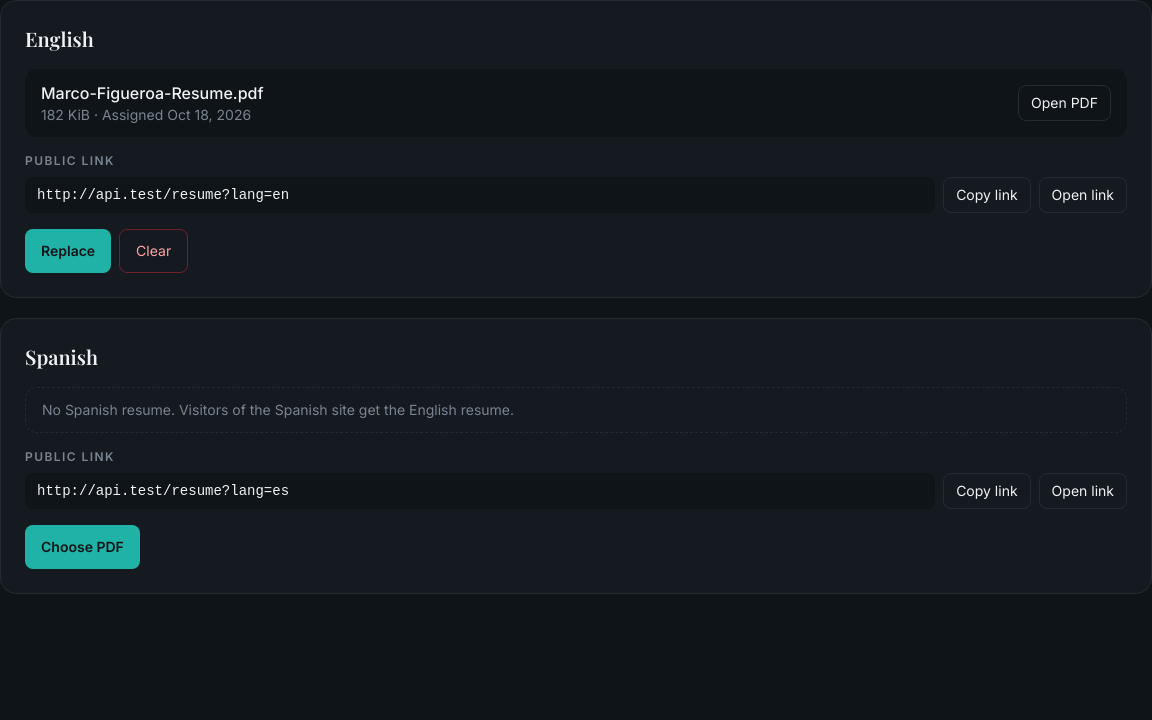
Test case: ResumeManager › pending and errors › shows a failed clear in the section, and the connection error when unreachable
Click the button "Clear" at (154, 251), box [119,229,188,273]
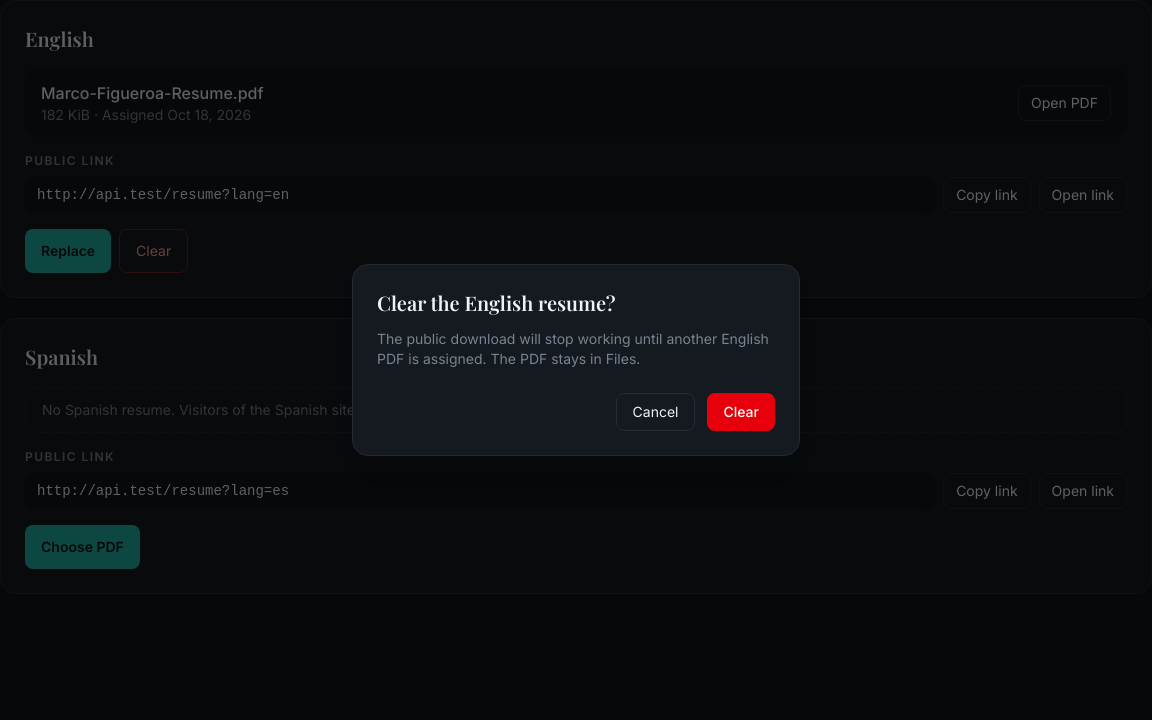
Click the button "Clear" at (741, 412), box [708,393,775,431]
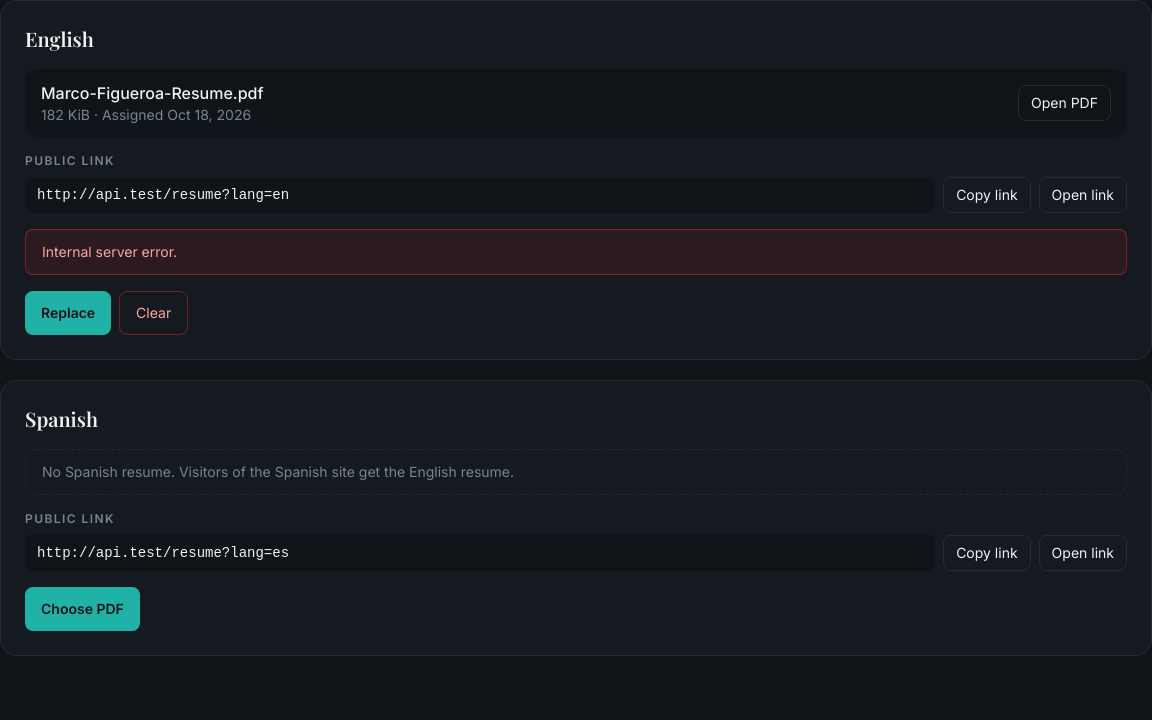
Check: the text "Marco-Figueroa-Resume.pdf" is shown, box [41,81,264,105]
Check: the message reads "Internal server error.", box [42,243,177,260]
Click the button "Clear" at (154, 313), box [119,291,188,335]
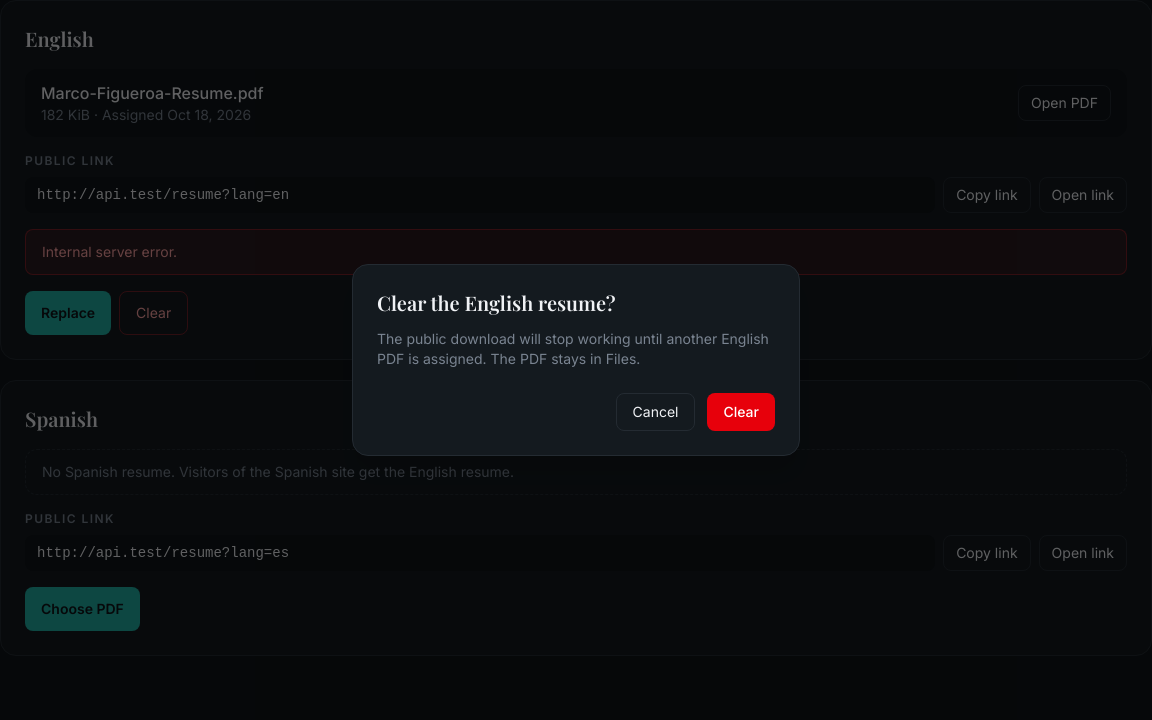
Click the button "Clear" at (741, 412), box [708,393,775,431]
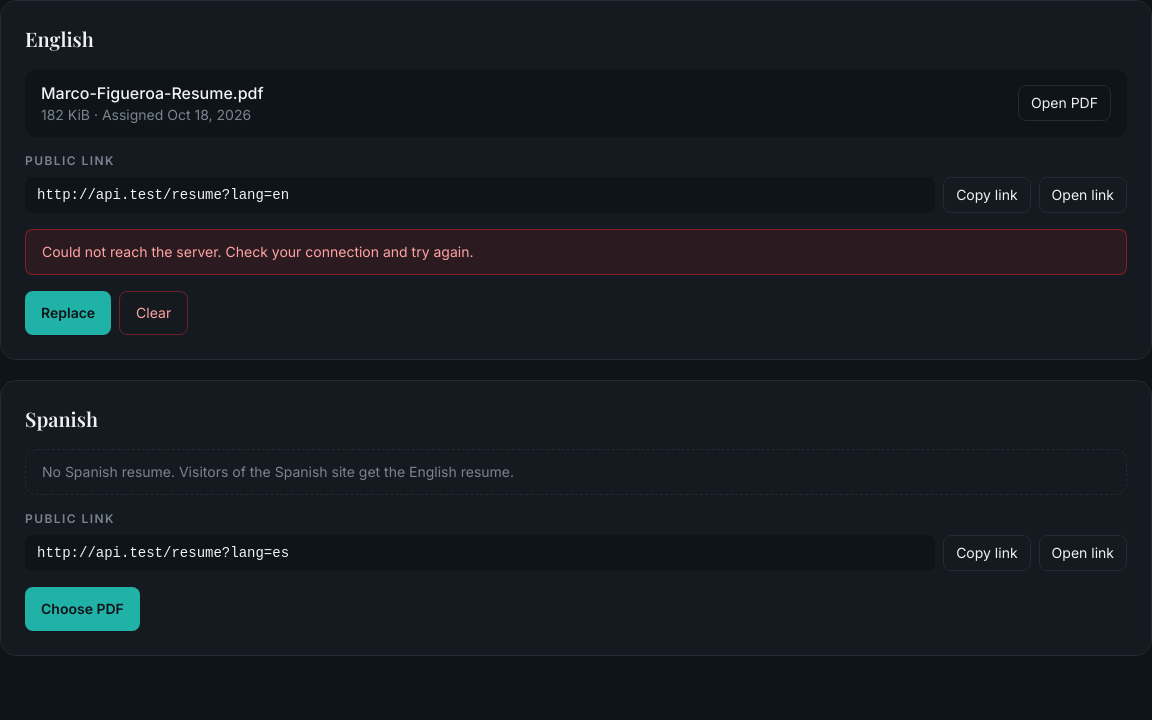
Check: the message reads "Could not reach the server. Check your connection and try again.", box [42,243,474,260]
